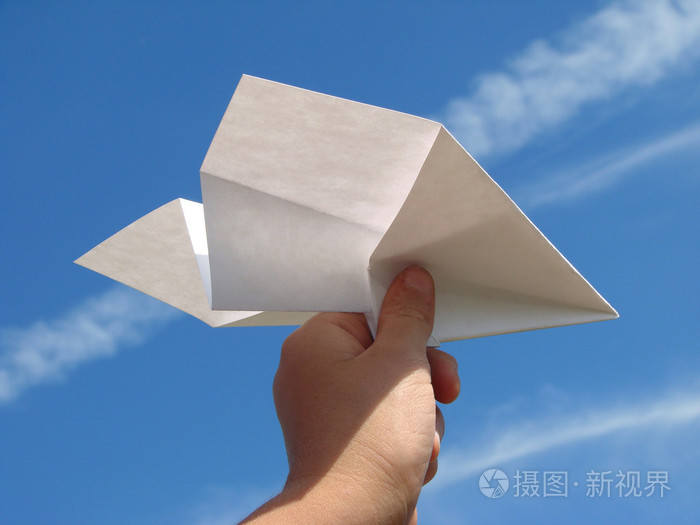no-phone: (251, 72, 464, 524)
